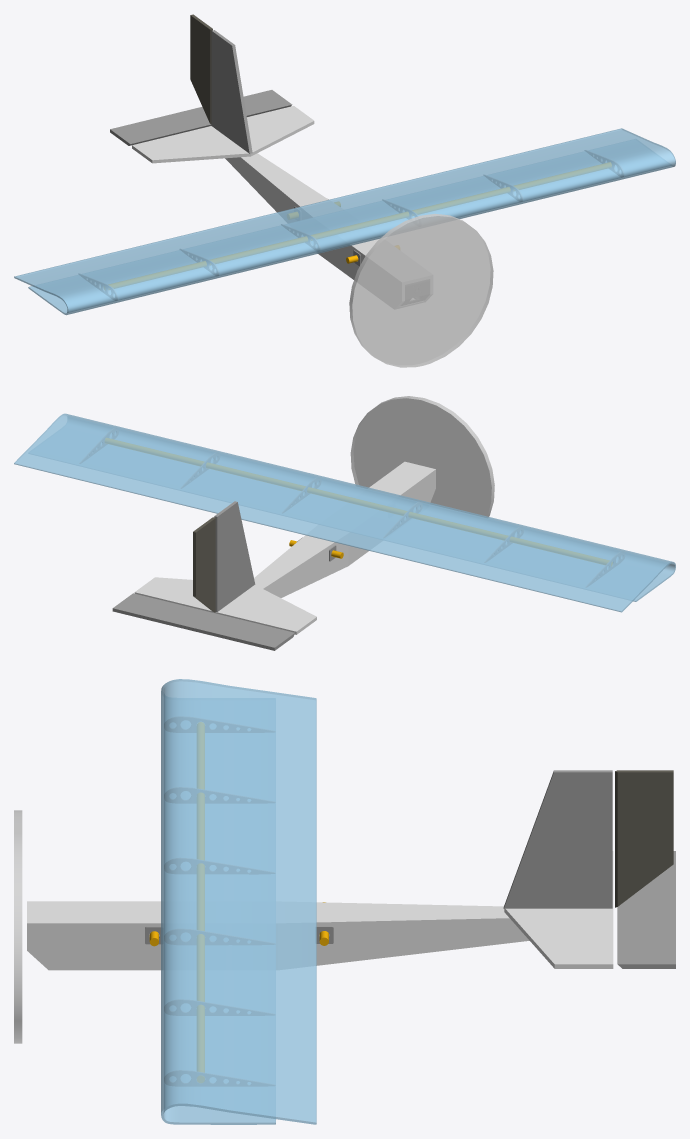
The model's file is Chonkyv2.obj.
The picture shows the model from 3 angles, top to bottom: view 1: azimuth 30°, elevation 25°; view 2: azimuth 150°, elevation 25°; view 3: azimuth 270°, elevation 25°; orthographic projection. The views are drawn at different scales.
Parts seen in each view (by area): view 1: mesh2465, mesh2463, mesh3117, mesh3119, mesh3155, mesh2812, mesh3150, mesh3137, mesh2916, mesh3051, mesh2914, mesh3118 (+2 smaller); view 2: mesh2465, mesh2463, mesh3117, mesh3119, mesh3155, mesh3150, mesh2916, mesh2812, mesh3137, mesh2914, mesh3051, mesh2464 (+3 smaller); view 3: mesh2465, mesh2463, mesh2811, mesh2915, mesh2916, mesh3048, mesh2917, mesh3155, mesh3150, mesh3137, mesh3118, mesh2464 (+6 smaller).
Part boxes in pixels (x1,y1,x2,y2): mesh2465: (15,128,675,314); mesh2463: (15,130,674,313); mesh3117: (352,216,493,367); mesh3119: (349,214,490,364); mesh3155: (132,106,313,160); mesh2812: (211,31,249,153); mesh3150: (110,90,291,143); mesh3137: (109,162,611,289); mesh2916: (241,153,380,255); mesh3051: (190,15,209,122); mesh2914: (225,157,311,222); mesh3118: (349,214,493,367); mesh2465: (15,413,675,610); mesh2463: (15,415,674,611); mesh3117: (354,396,494,516); mesh3119: (350,398,491,516); mesh3155: (135,577,316,631); mesh3150: (113,593,294,647); mesh2916: (254,461,435,588); mesh2812: (217,502,255,611); mesh3137: (105,438,608,564); mesh2914: (263,534,348,597); mesh3051: (196,518,215,611); mesh2464: (14,463,621,612); mesh2465: (161,679,315,1124); mesh2463: (163,681,314,1124); mesh2811: (504,772,612,908); mesh2915: (278,918,529,969); mesh2916: (27,901,509,923); mesh3048: (617,772,673,906); mesh2917: (27,923,277,970); mesh3155: (505,851,613,964); mesh3150: (617,851,675,964); mesh3137: (197,722,204,1071); mesh3118: (14,810,22,1043); mesh2464: (315,698,316,1123).
Size of the model in its own units: 1.2 by 0.3447 by 0.7908.
